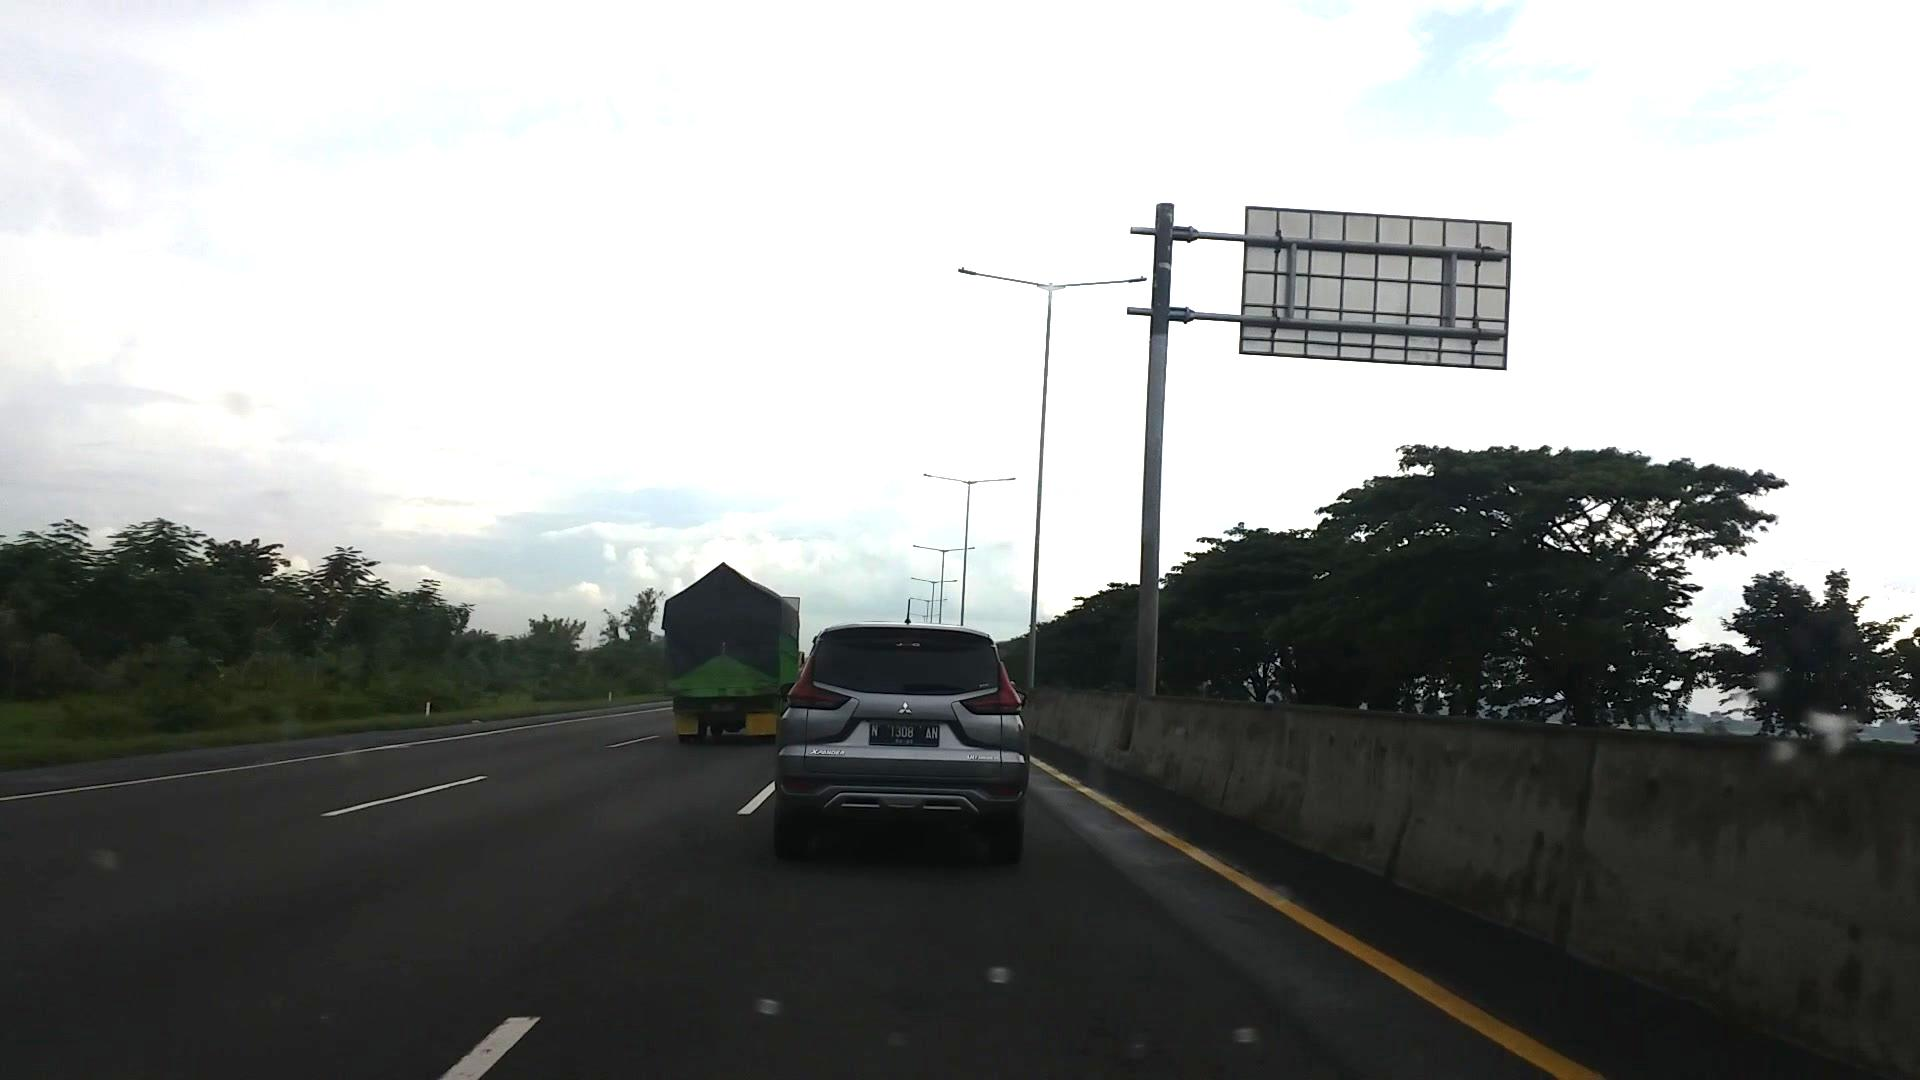plate_positive: (869, 721, 940, 746)
